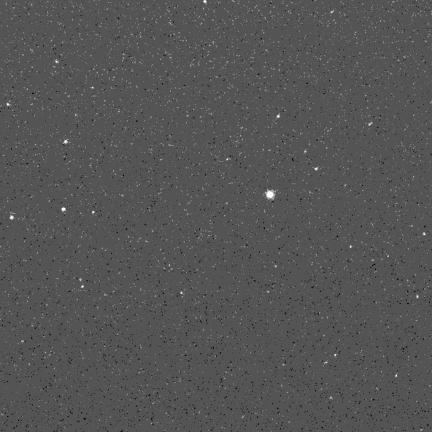blob: (10, 215, 14, 219), (64, 140, 68, 144), (62, 207, 66, 211), (314, 167, 318, 170), (277, 114, 280, 118), (203, 0, 206, 3)
